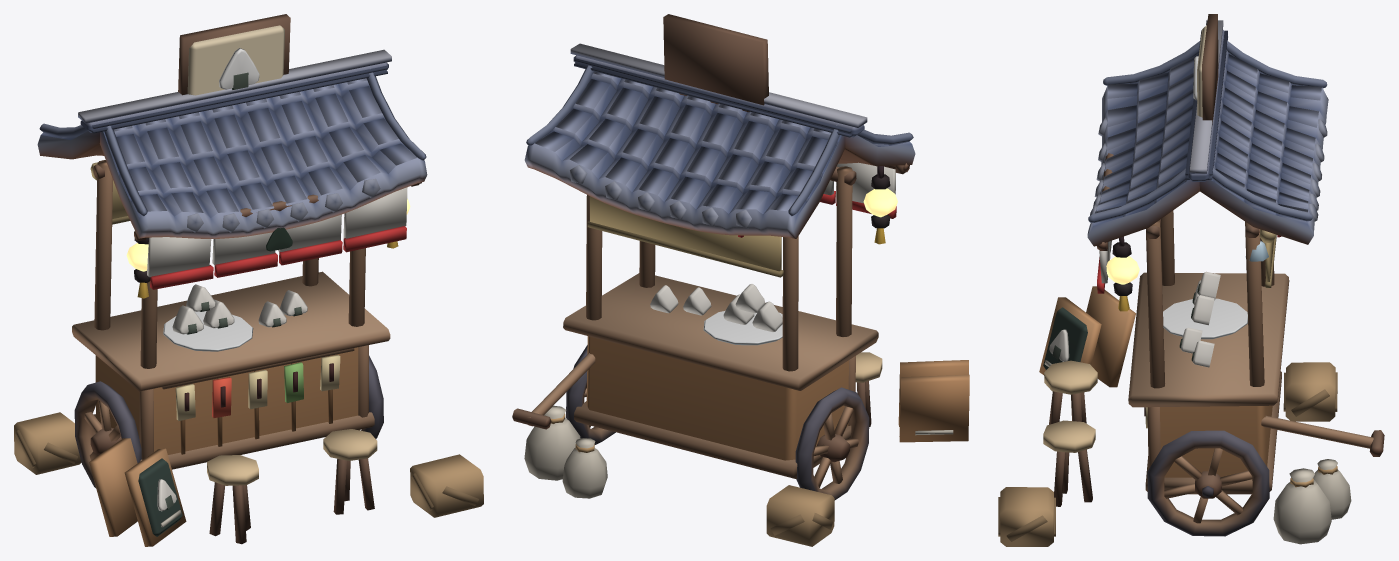
File: shop-1-v1.glb
The picture shows the model from 3 angles, left to right: view 1: azimuth 30°, elevation 25°; view 2: azimuth 150°, elevation 25°; view 3: azimuth 270°, elevation 25°; orthographic projection.
Visible parts, largest first — view 1: shop-1-v1; view 2: shop-1-v1, window_glow; view 3: shop-1-v1, window_glow.
Part boxes in pixels (x1,y1,x2,y2): shop-1-v1: [14, 14, 483, 546]; shop-1-v1: [512, 14, 969, 546]; window_glow: [863, 188, 897, 217]; shop-1-v1: [998, 14, 1384, 546]; window_glow: [1106, 256, 1139, 284].
Size of the model in its own units: 2.09 by 2.55 by 2.02.
